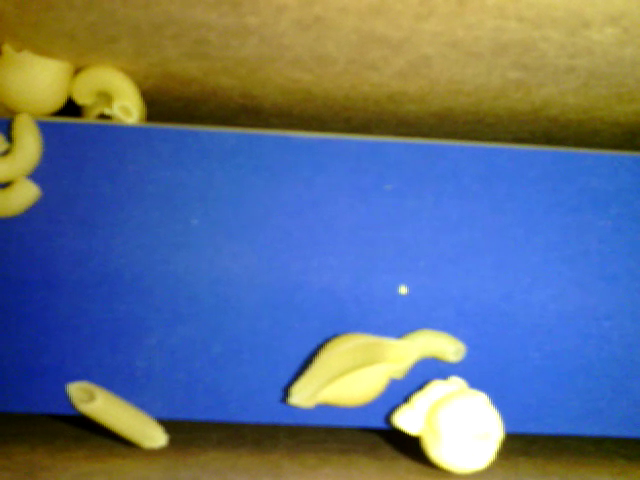elbow: (390, 328, 466, 379), (72, 68, 141, 122), (1, 114, 43, 181), (1, 179, 43, 215)
penne: (65, 381, 167, 449)
shell: (286, 333, 416, 410), (1, 43, 74, 115), (83, 95, 147, 125)
